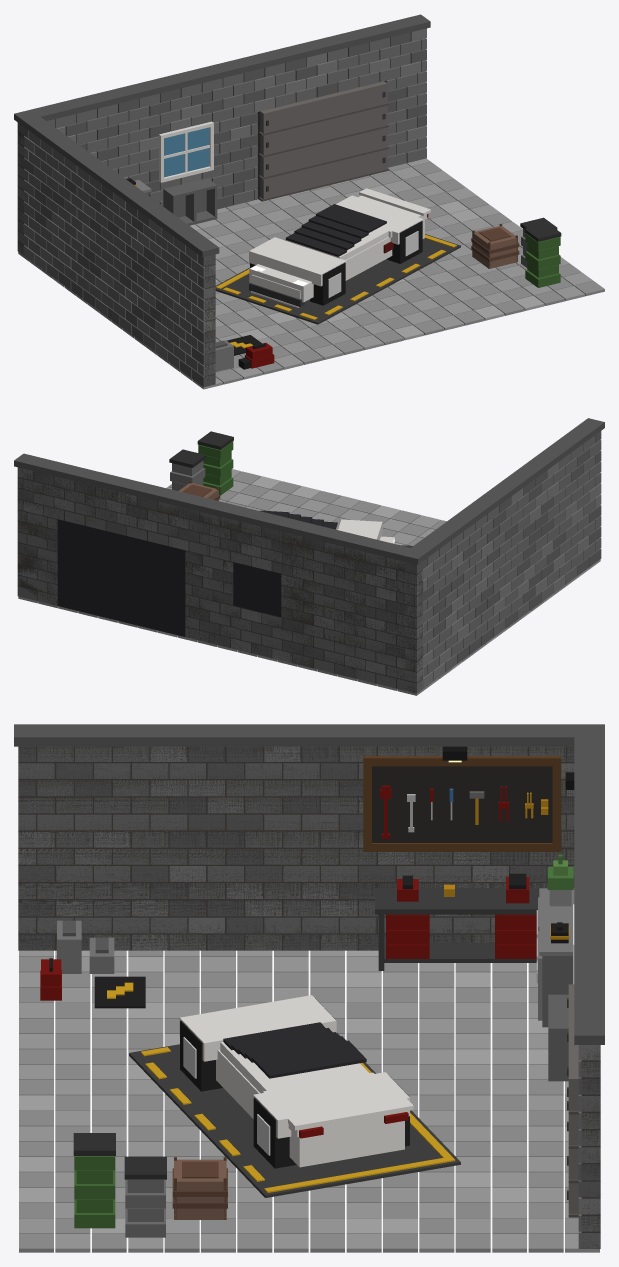
The model's file is garage.glb.
The picture shows the model from 3 angles, top to bottom: view 1: azimuth 30°, elevation 25°; view 2: azimuth 150°, elevation 25°; view 3: azimuth 270°, elevation 25°; orthographic projection. The views are drawn at different scales.
Parts seen in each view (by area): view 1: gb_wall_brick_a, gb_floor_floor_b, gb_floor_floor_a, gb_wall_brick_b, gb_door_door_panel, gb_wall_coping, gb_wall_brick_c, gb_car_car_white, gb_car_pad, gb_car_car_glass, gb_floor_floor_c, gb_shelf_cabinet (+12 smaller); view 2: gb_wall_brick_a, gb_wall_mortar, gb_wall_brick_b, gb_door_darker, gb_wall_coping, gb_wall_brick_c, gb_floor_floor_b, gb_floor_floor_a, gb_win_darker, gb_prop_barrel_g, gb_floor_floor_c, gb_prop_lid (+3 smaller); view 3: gb_wall_mortar, gb_floor_floor_a, gb_floor_floor_b, gb_wall_brick_a, gb_wall_coping, gb_wall_brick_b, gb_car_car_white, gb_wall_brick_c, gb_peg_peg_board, gb_car_pad, gb_floor_floor_c, gb_peg_peg_frame (+19 smaller).
Part boxes in pixels (bbox=[...]): gb_wall_brick_a: bbox=[17, 37, 426, 376]; gb_floor_floor_b: bbox=[18, 162, 604, 384]; gb_floor_floor_a: bbox=[30, 158, 593, 389]; gb_wall_brick_b: bbox=[17, 32, 426, 387]; gb_door_door_panel: bbox=[260, 81, 387, 199]; gb_wall_coping: bbox=[14, 14, 430, 257]; gb_wall_brick_c: bbox=[17, 28, 426, 360]; gb_car_car_white: bbox=[249, 188, 430, 307]; gb_car_pad: bbox=[215, 234, 460, 324]; gb_car_car_glass: bbox=[285, 204, 386, 256]; gb_floor_floor_c: bbox=[53, 185, 561, 380]; gb_shelf_cabinet: bbox=[163, 178, 217, 225]; gb_wall_brick_a: bbox=[17, 435, 601, 693]; gb_wall_mortar: bbox=[17, 467, 422, 692]; gb_wall_brick_b: bbox=[17, 431, 601, 678]; gb_door_darker: bbox=[57, 519, 185, 636]; gb_wall_coping: bbox=[14, 418, 604, 564]; gb_wall_brick_c: bbox=[17, 462, 601, 689]; gb_floor_floor_b: bbox=[38, 471, 565, 695]; gb_floor_floor_a: bbox=[18, 469, 600, 690]; gb_win_darker: bbox=[233, 562, 281, 616]; gb_prop_barrel_g: bbox=[198, 441, 233, 495]; gb_floor_floor_c: bbox=[158, 476, 588, 670]; gb_prop_lid: bbox=[169, 431, 233, 467]; gb_wall_mortar: bbox=[18, 746, 600, 1248]; gb_floor_floor_a: bbox=[19, 950, 599, 1252]; gb_floor_floor_b: bbox=[19, 950, 578, 1252]; gb_wall_brick_a: bbox=[18, 746, 600, 1248]; gb_wall_coping: bbox=[14, 724, 604, 1044]; gb_wall_brick_b: bbox=[18, 746, 600, 1197]; gb_car_car_white: bbox=[179, 995, 413, 1167]; gb_wall_brick_c: bbox=[18, 746, 600, 1214]; gb_peg_peg_board: bbox=[372, 766, 552, 842]; gb_car_pad: bbox=[129, 1032, 460, 1197]; gb_floor_floor_c: bbox=[19, 950, 568, 1233]; gb_peg_peg_frame: bbox=[363, 756, 561, 851].
Size of the model in its own units: 10.12 by 3.32 by 8.12.
